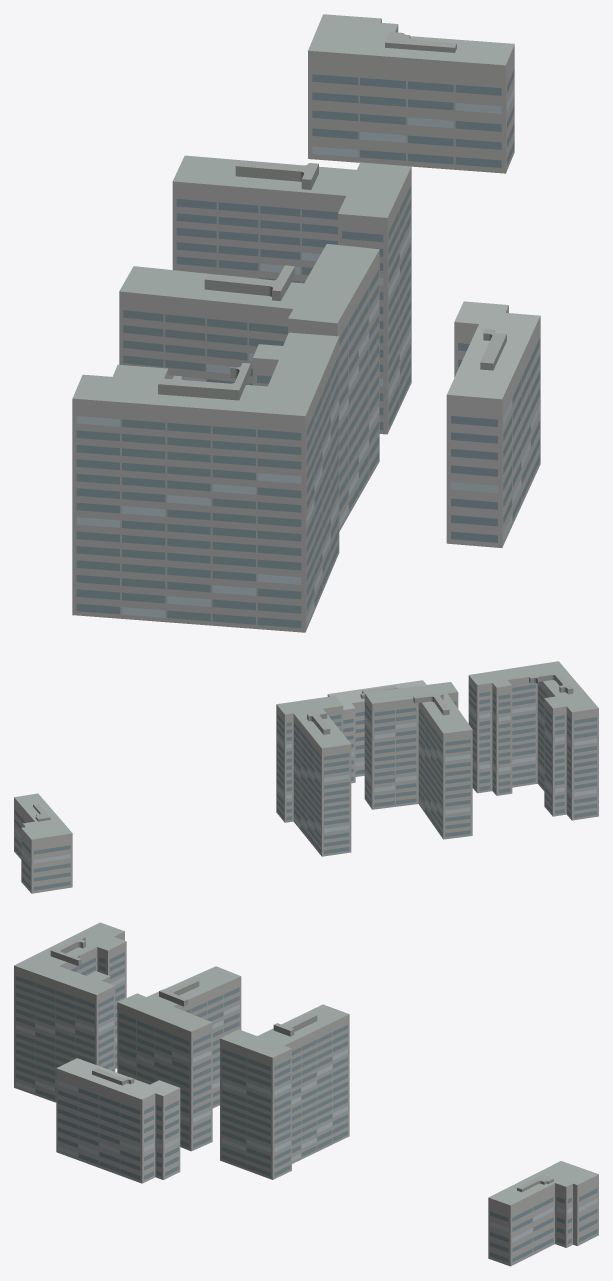
The model's file is apt-a10025858.glb.
3 renders of one model, top to bottom at view 1: azimuth 30°, elevation 25°; view 2: azimuth 150°, elevation 25°; view 3: azimuth 270°, elevation 25°, orthographic. The views are drawn at different scales.
Parts seen in each view (by area): view 1: apt-a10025858; view 2: apt-a10025858; view 3: apt-a10025858.
Boxes of the visible parts, bbox=[...] form: apt-a10025858: bbox=[72, 14, 540, 632]; apt-a10025858: bbox=[14, 661, 598, 893]; apt-a10025858: bbox=[14, 922, 598, 1266].
Bounding box in the file's own units: 179 × 48 × 199.
